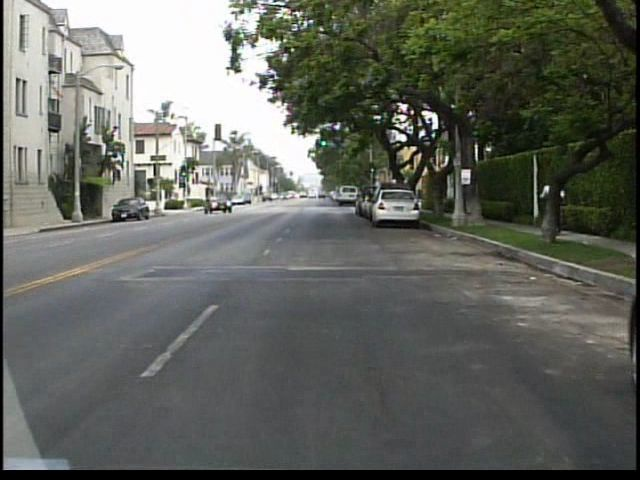person: (532, 168, 567, 246)
